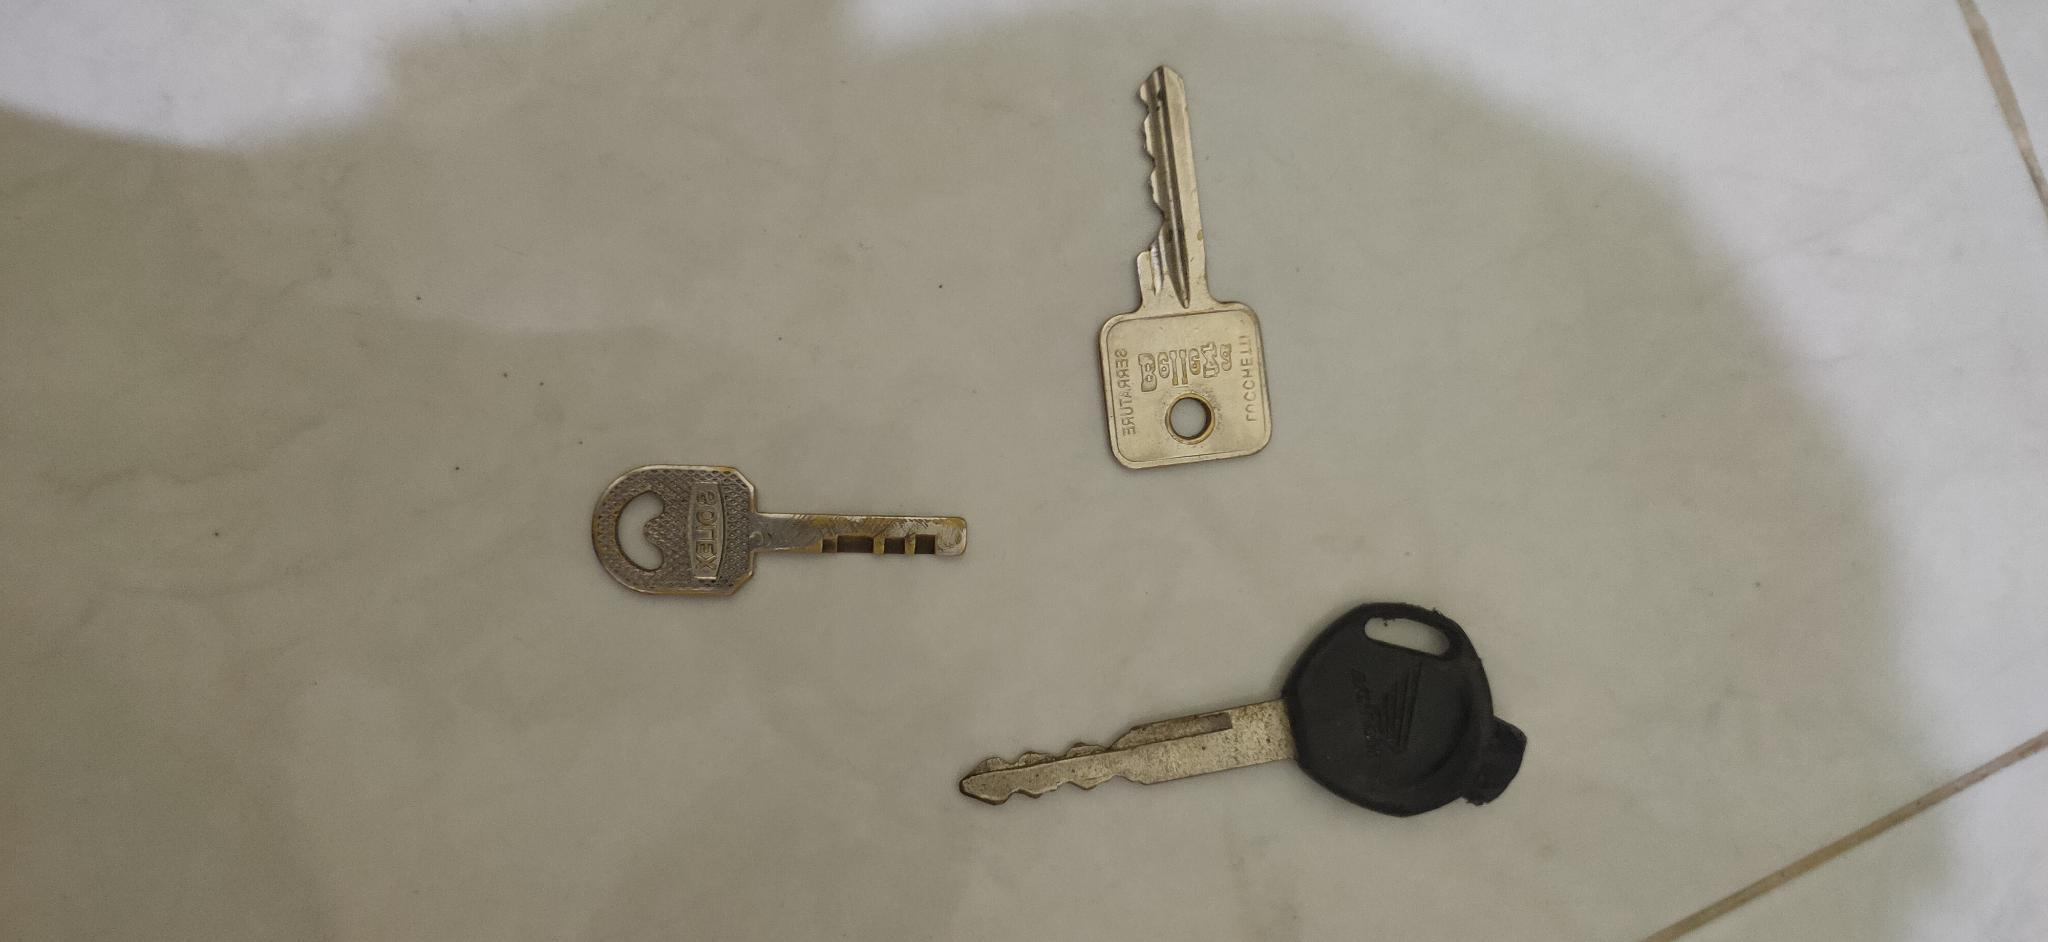keys: (953, 579, 1543, 832), (1081, 46, 1280, 489), (589, 453, 980, 609)
